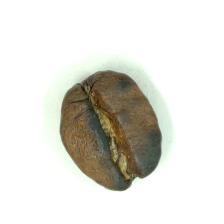NG: (85, 104, 131, 191), (125, 125, 162, 183)
